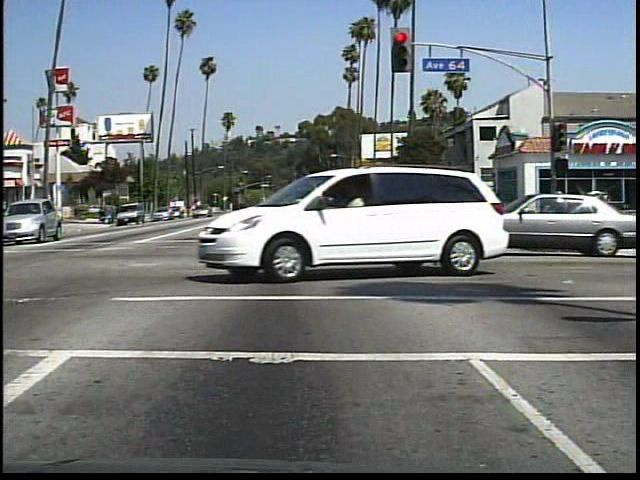person: (546, 187, 572, 237)
